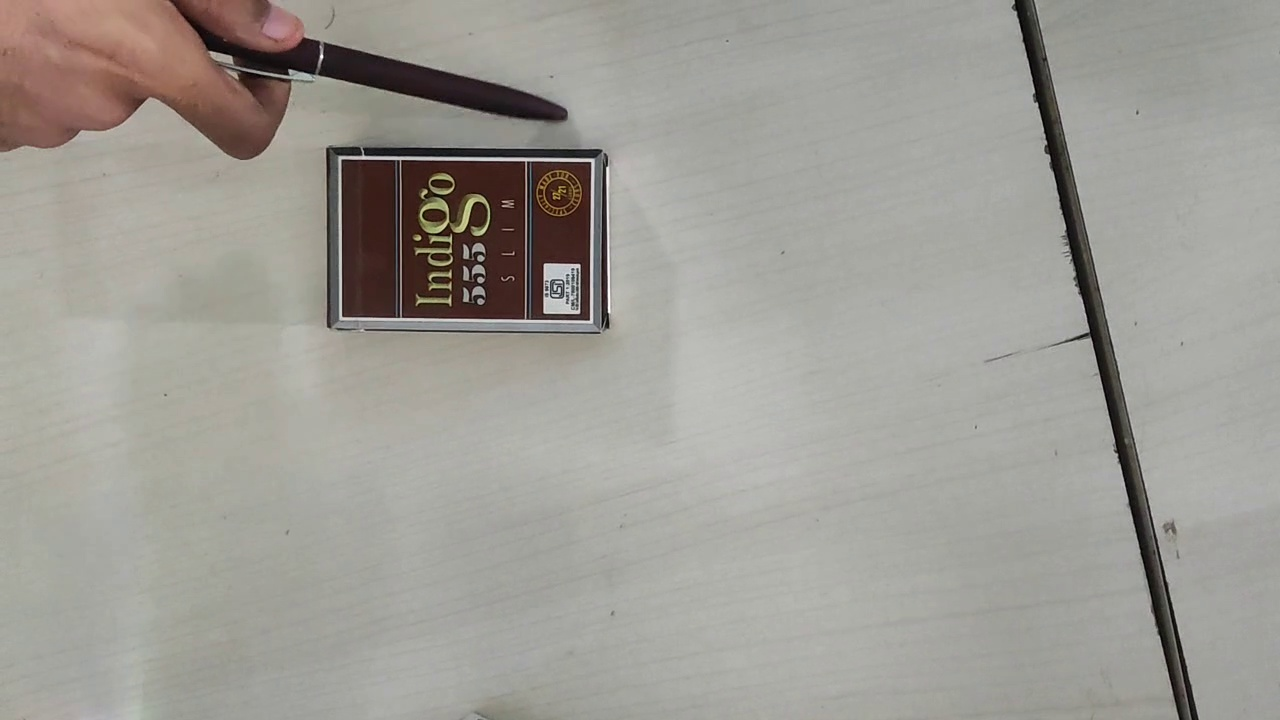BEX: (338, 159, 591, 319)
